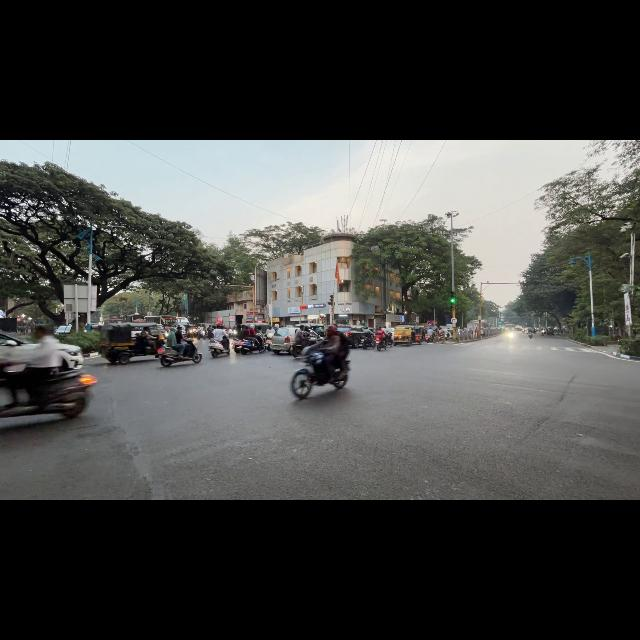bus: (146, 315, 177, 326), (126, 314, 146, 322), (503, 324, 516, 330)
car: (0, 331, 37, 361), (338, 325, 370, 348), (271, 327, 299, 353), (294, 323, 325, 333), (55, 325, 72, 334)
motorcycle: (0, 371, 97, 418), (291, 349, 349, 399), (156, 341, 202, 366), (291, 337, 316, 358), (235, 340, 266, 354), (209, 339, 229, 357), (362, 336, 374, 349), (376, 335, 386, 350), (385, 333, 392, 348), (265, 338, 271, 351), (541, 330, 545, 336), (528, 333, 532, 339)
